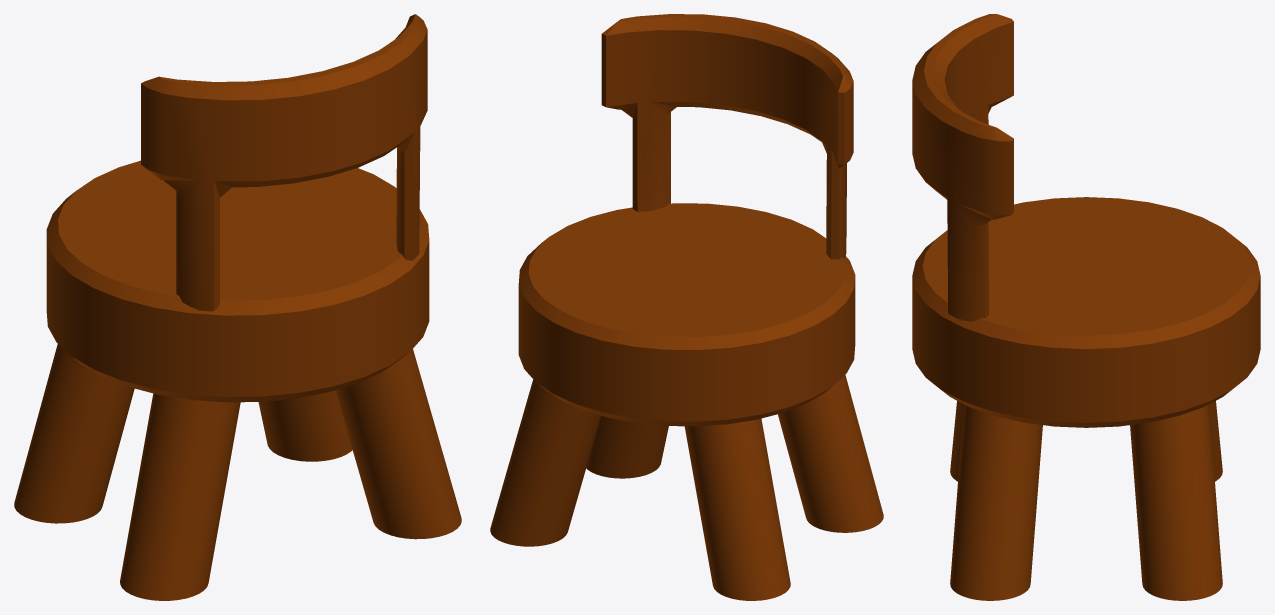
File: shoplittlechair.fbx
3 views of the same model, side by side, from view 1: azimuth 30°, elevation 25°; view 2: azimuth 150°, elevation 25°; view 3: azimuth 270°, elevation 25° (orthographic). The views are drawn at different scales.
Parts seen in each view (by area): view 1: shoplittlechair; view 2: shoplittlechair; view 3: shoplittlechair.
Part boxes in pixels (x1=…): shoplittlechair: x1=14, y1=14, x2=461, y2=600; shoplittlechair: x1=490, y1=14, x2=883, y2=600; shoplittlechair: x1=912, y1=14, x2=1260, y2=600.
Bounding box in the file's own units: 106 × 154 × 106.
